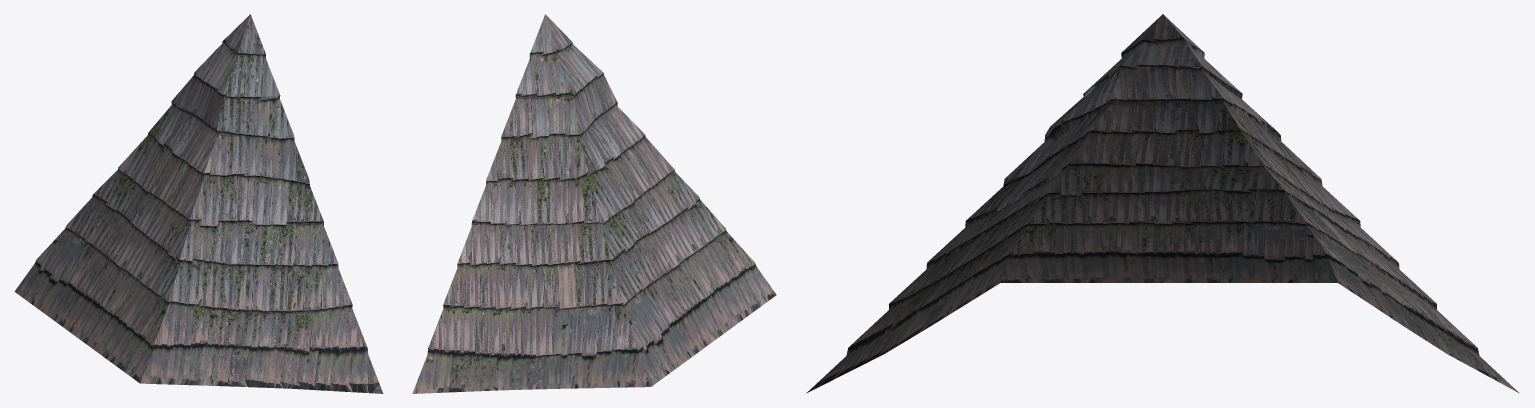
File: sm_Roof_01_06.fbx
3 views of the same model, side by side, from view 1: azimuth 30°, elevation 25°; view 2: azimuth 150°, elevation 25°; view 3: azimuth 270°, elevation 25° (orthographic). The views are drawn at different scales.
Visible parts, largest first — view 1: sm_Roof_01_06_LOD0; view 2: sm_Roof_01_06_LOD0; view 3: sm_Roof_01_06_LOD0.
Part boxes in pixels (x1,y1,x2,y2): sm_Roof_01_06_LOD0: (14,14,383,393); sm_Roof_01_06_LOD0: (412,14,776,393); sm_Roof_01_06_LOD0: (806,14,1519,393).
Bounding box in the file's own units: 163 × 440 × 259.
